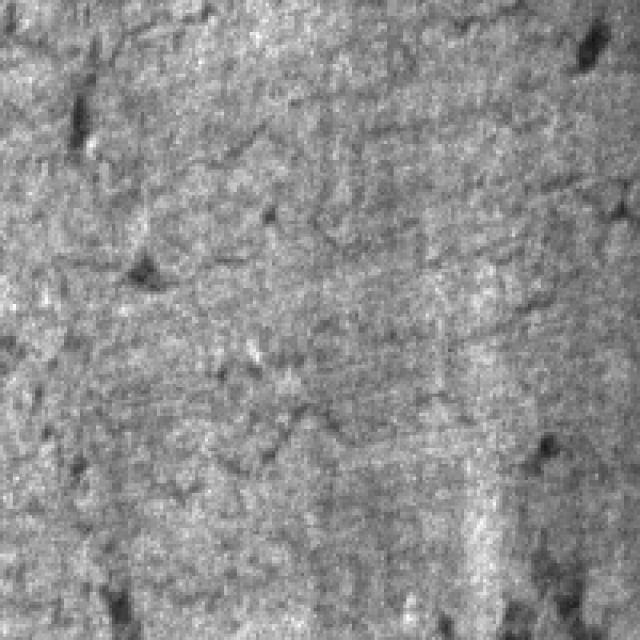crazing: (326, 74, 614, 358), (0, 76, 291, 298), (134, 310, 420, 496)
